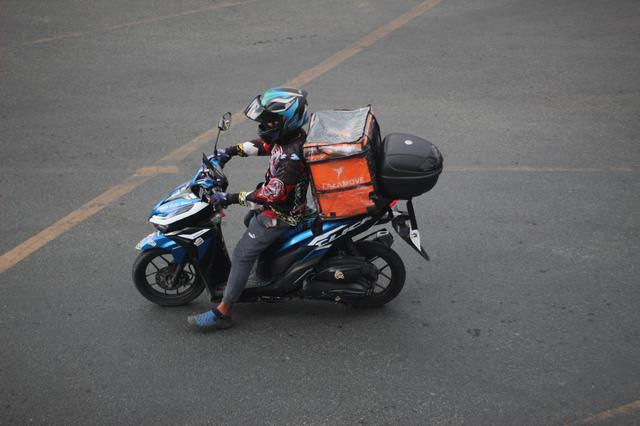helmet: (253, 86, 309, 148)
motorcycle: (131, 87, 423, 312)
